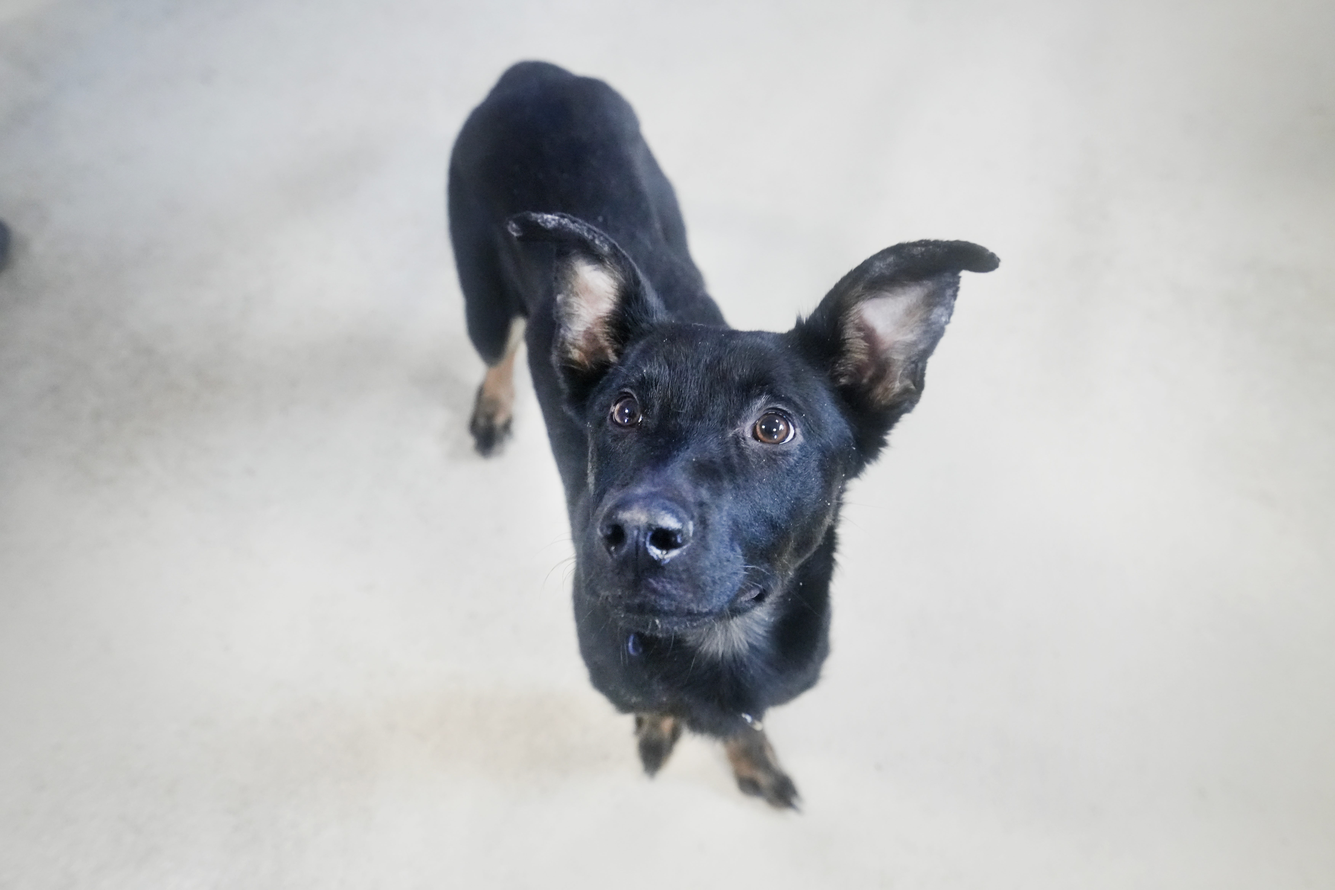Dog: (364, 26, 1016, 822)
